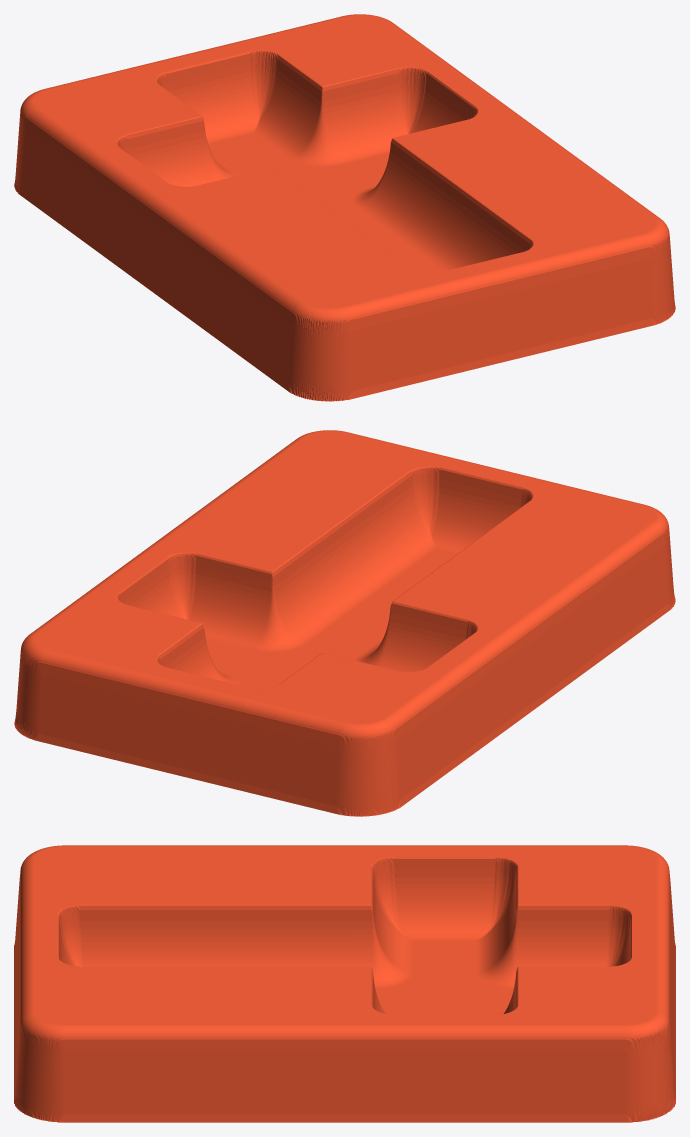
File: mold.glb
The picture shows the model from 3 angles, top to bottom: view 1: azimuth 30°, elevation 25°; view 2: azimuth 150°, elevation 25°; view 3: azimuth 270°, elevation 25°; orthographic projection. The views are drawn at different scales.
Parts seen in each view (by area): view 1: geometry_0; view 2: geometry_0; view 3: geometry_0.
Boxes of the visible parts, x1=… form: geometry_0: x1=14, y1=14, x2=675, y2=401; geometry_0: x1=14, y1=430, x2=675, y2=816; geometry_0: x1=14, y1=845, x2=675, y2=1122.
Bounding box in the file's own units: 0.0822 × 0.0175 × 0.1178.
